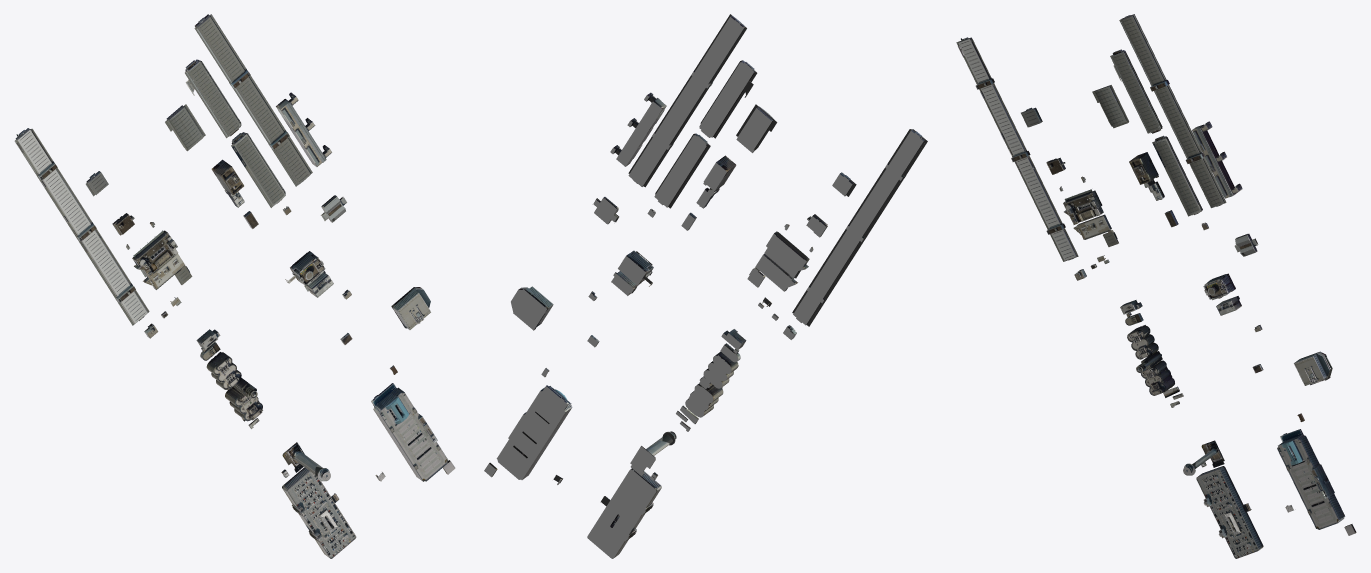
Rendered from 53392662_bldg_6677.obj.
3 renders of one model, left to right at view 1: azimuth 30°, elevation 25°; view 2: azimuth 150°, elevation 25°; view 3: azimuth 330°, elevation 25°, orthographic. The views are drawn at different scales.
Bounding box in the file's own units: 950 × 1173 × 120.
Materials: 43 (43 with a texture image).
